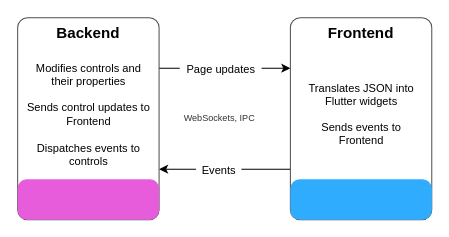
The diagram is 449 pixels wide and 237 high, and some of its shapes have lost their labels. The shapes that lost their labels are listed below. From the top down, each one's centre as x and y in pixels, then its label:
At (x=88, y=199): "Python app".
At (x=360, y=199): "Compiled Flutter app .exe, .apk, .ipa".
